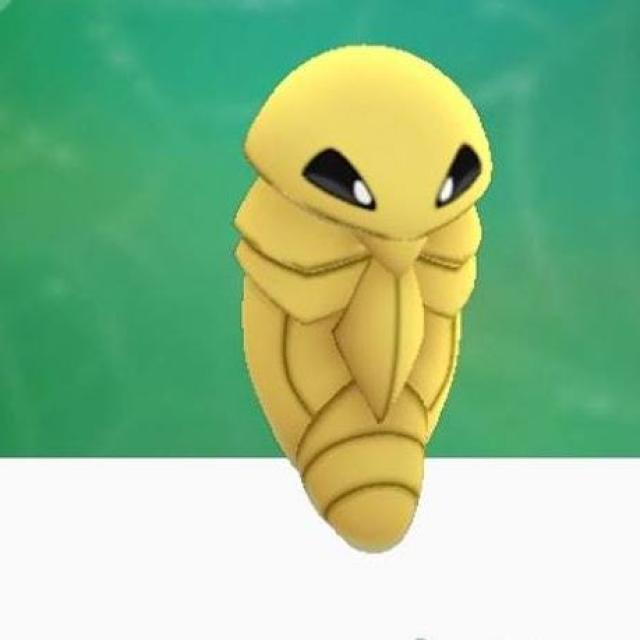Kakuna: (233, 46, 491, 554)
